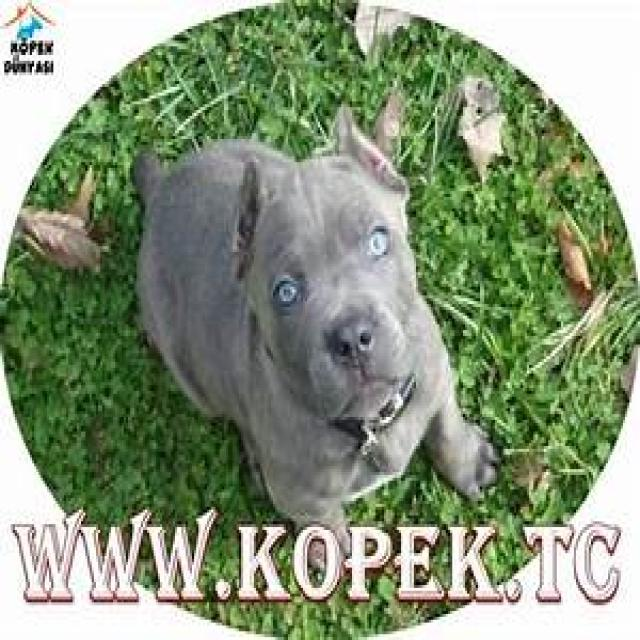dog: (130, 107, 503, 599)
